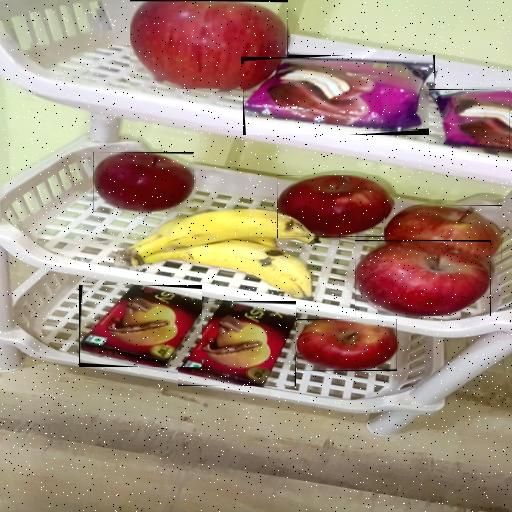Apple: (131, 1, 288, 89), (355, 242, 491, 316), (278, 175, 392, 237), (386, 205, 502, 259), (94, 152, 193, 212), (297, 319, 397, 370)
Choco Fills: (80, 285, 202, 367), (178, 302, 296, 386)
Choco Pie: (244, 59, 434, 130), (430, 90, 510, 151)
